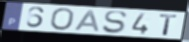4: (131, 12, 151, 36)
6: (26, 6, 46, 29)
A: (73, 9, 101, 33)
O: (49, 7, 76, 32)
S: (101, 10, 129, 35)
T: (159, 13, 180, 36)
